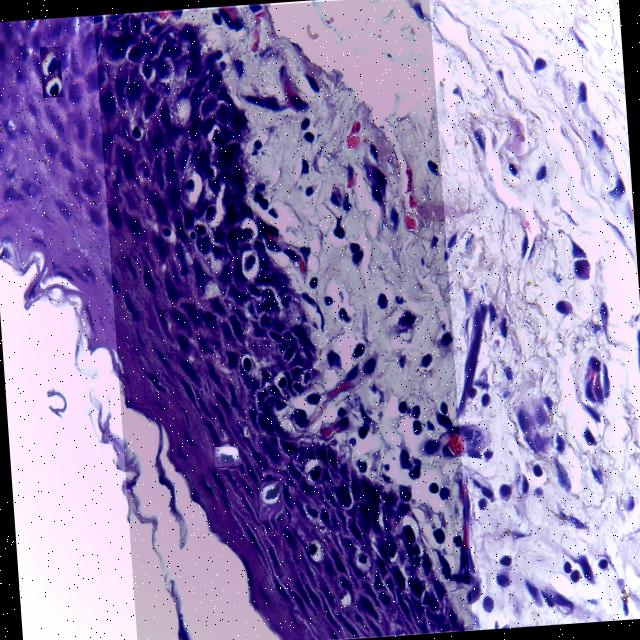Nuclear Hyperchromatism: (94, 13, 472, 634), (39, 46, 61, 97), (257, 482, 282, 519), (214, 447, 237, 466)
